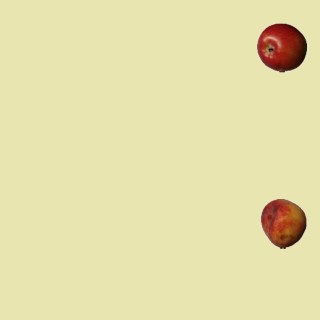Apple Braeburn: (256, 22, 306, 72)
Peach: (258, 198, 308, 248)
